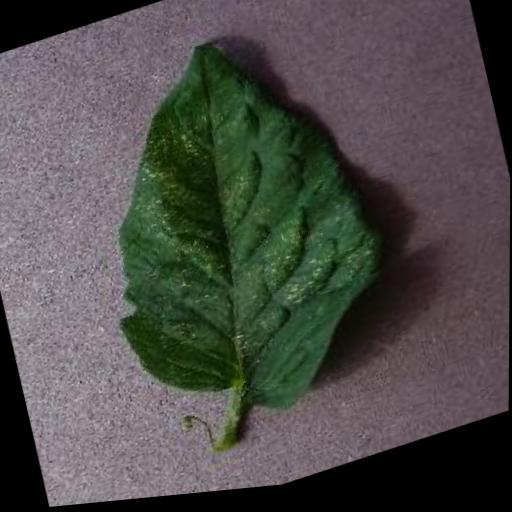Spider Mites: (64, 0, 404, 462)
